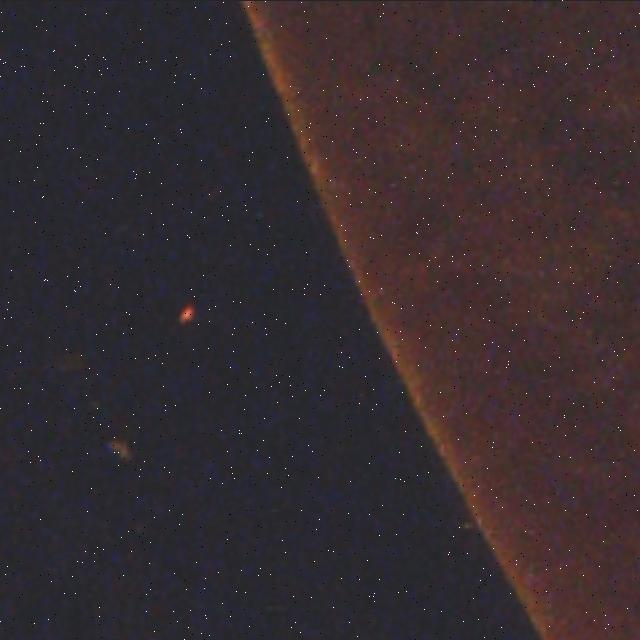Fragment: (178, 302, 195, 324)
